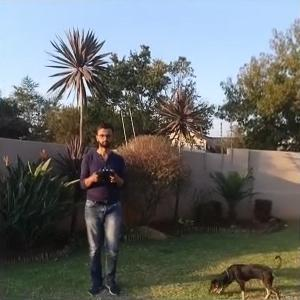follow: (77, 118, 126, 299)
null: (205, 251, 282, 299)
